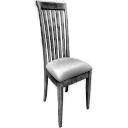chair_success: (32, 0, 99, 128)
